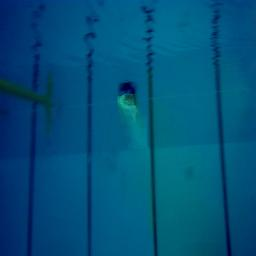Full: (119, 89, 136, 102)
